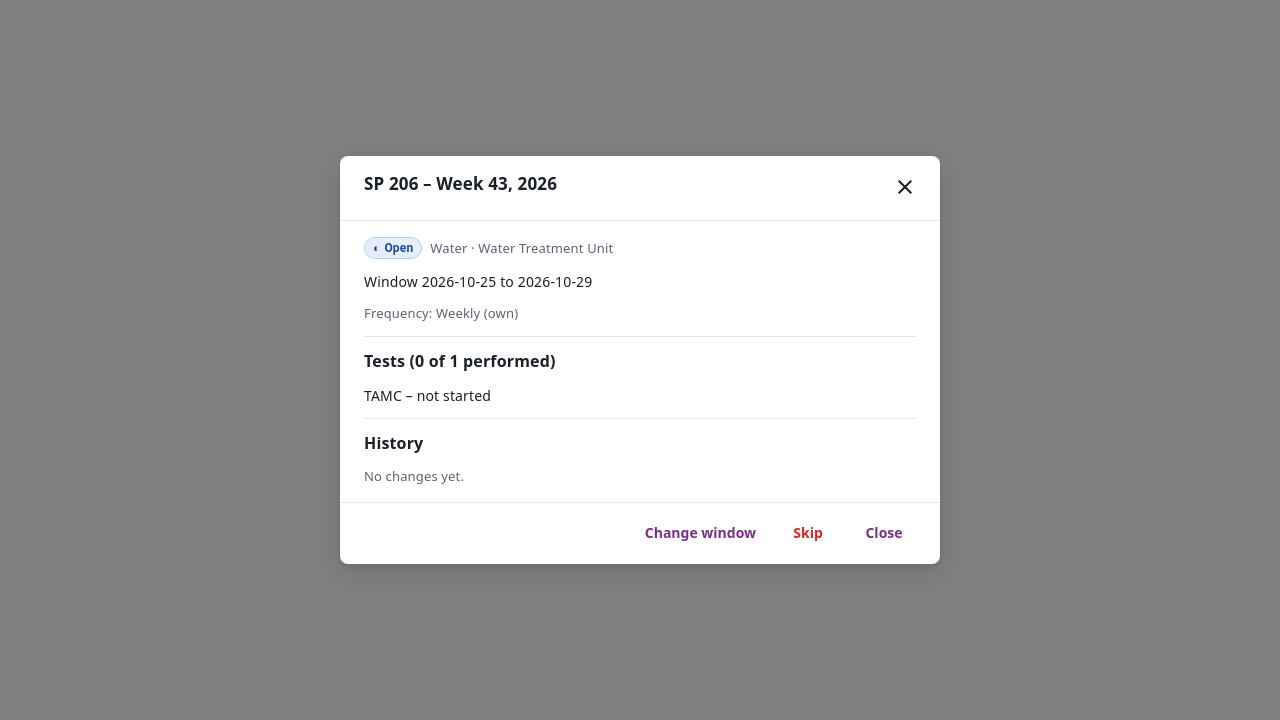
Test case: OccurrenceDialog › starts a window change from the current dates
Expected: the heading "SP 206 – Week 43, 2026" is shown, [364,170,922,204]
Click the button "Change window". click: (700,534)
box: [637,515,764,552]
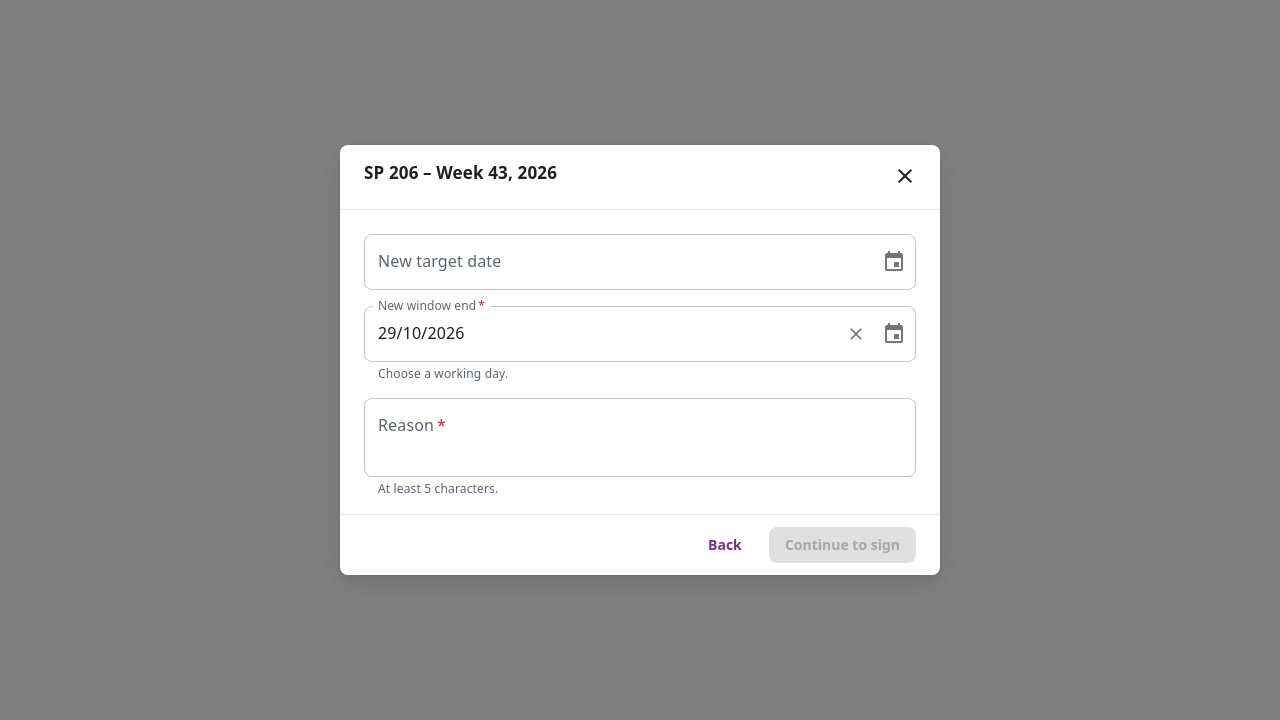
Now the button "Continue to sign" is disabled, box [769,527,916,563]
